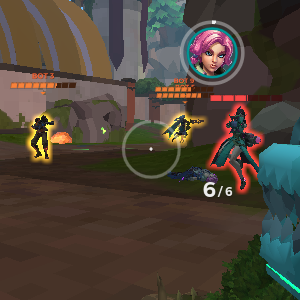model: (222, 106, 259, 197), (27, 109, 55, 165), (178, 114, 205, 150), (166, 109, 181, 145)
